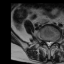CCS_normal: (47, 38, 50, 50)
LFS_normal: (52, 37, 55, 46)
LLS_normal: (50, 39, 52, 46)
RFS_severe_stenosis: (43, 37, 45, 45)
RLS_stenosis: (45, 38, 48, 47)
